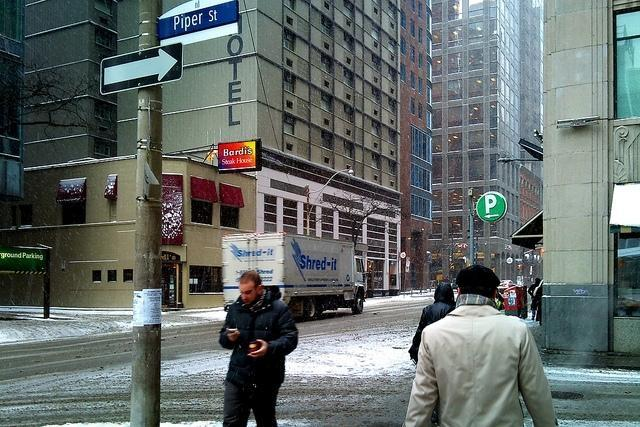truck: (220, 235, 371, 314)
